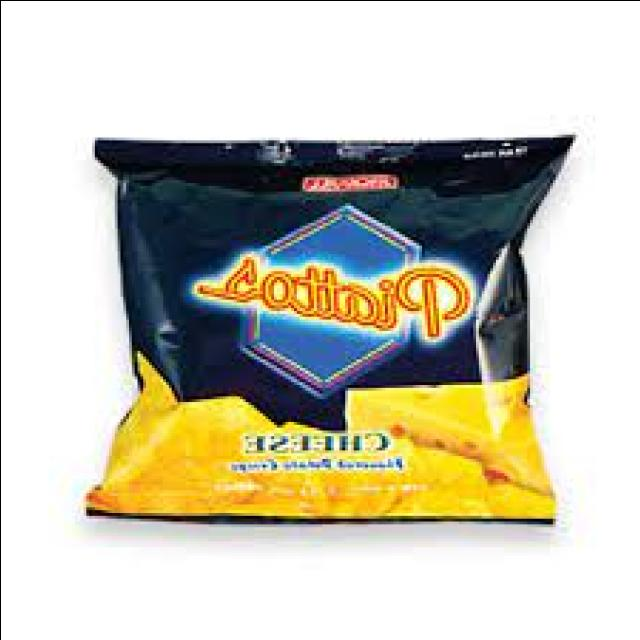junkfood wrapper: (86, 135, 571, 520)
